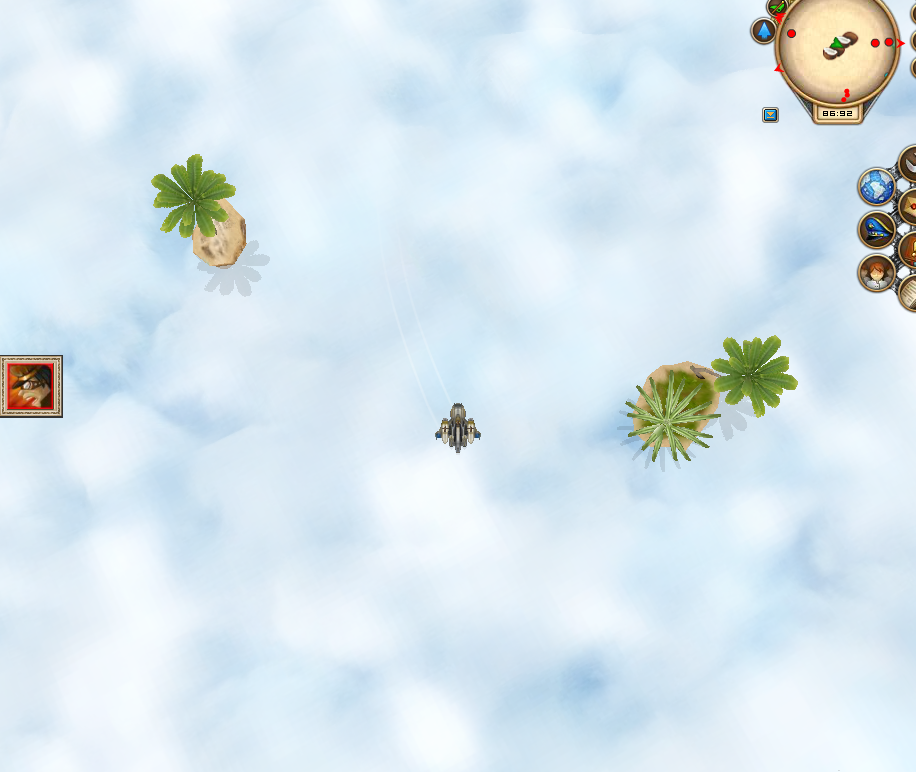palm: (626, 329, 797, 469), (144, 151, 278, 304)
